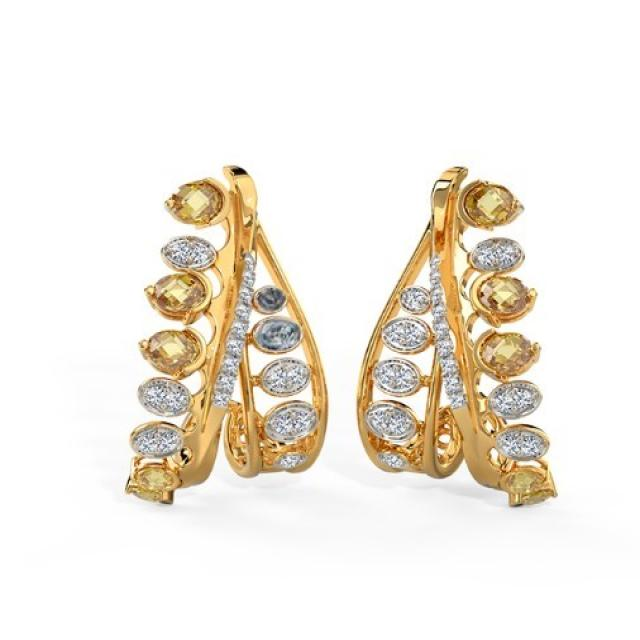missing gem: (252, 318, 300, 353), (259, 287, 292, 309)
